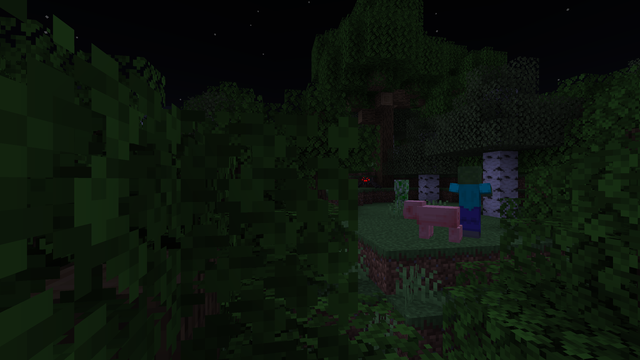araignees: (359, 175, 380, 188)
cochons: (414, 204, 463, 242)
creepers: (392, 178, 411, 217)
zombies: (453, 167, 487, 238)
